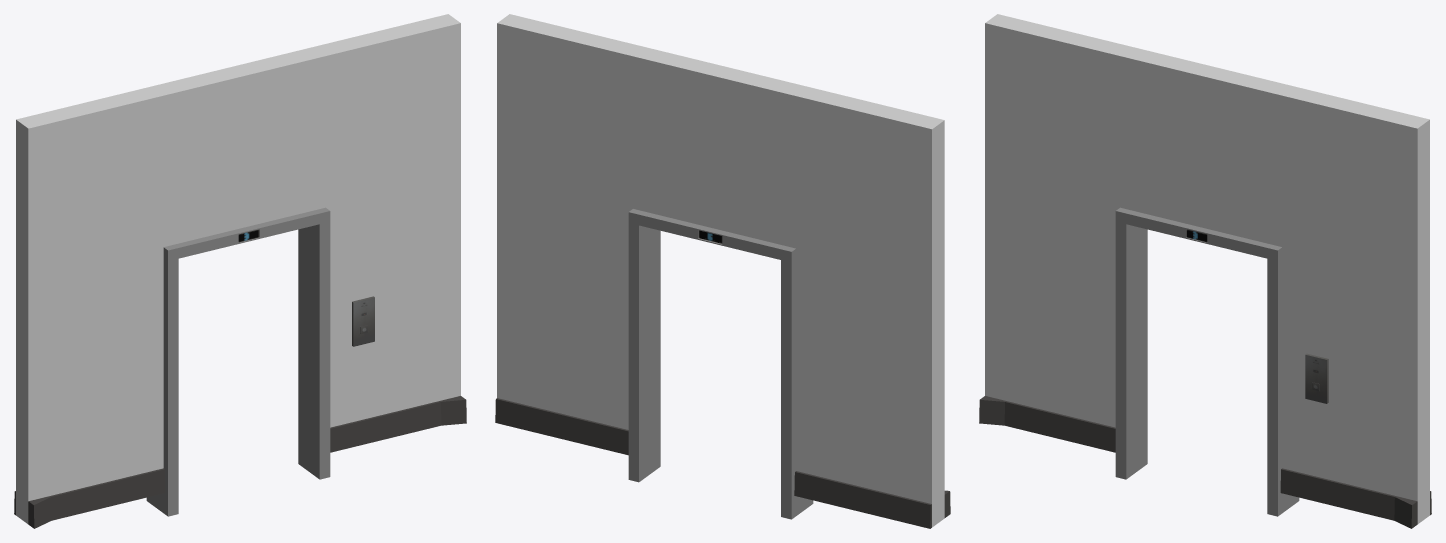
The model's file is ParedeElevador.glb.
3 renders of one model, left to right at view 1: azimuth 30°, elevation 25°; view 2: azimuth 150°, elevation 25°; view 3: azimuth 330°, elevation 25°, orthographic.
Visible parts, largest first — view 1: Wall4-col, DoorFrame5-col, Button; view 2: Wall4-col, DoorFrame5-col; view 3: Wall4-col, DoorFrame5-col, Button.
Part boxes in pixels (left/top/right/bottom): Wall4-col: left=14, top=14, right=466, bottom=528; DoorFrame5-col: left=146, top=207, right=330, bottom=516; Button: left=352, top=296, right=374, bottom=346; Wall4-col: left=495, top=14, right=950, bottom=528; DoorFrame5-col: left=628, top=209, right=813, bottom=519; Wall4-col: left=979, top=14, right=1431, bottom=528; DoorFrame5-col: left=1115, top=207, right=1299, bottom=516; Button: left=1305, top=353, right=1328, bottom=403.
Bounding box in the file's own units: 4 × 3.69 × 0.3674.
Materials: 5 (2 with a texture image).
